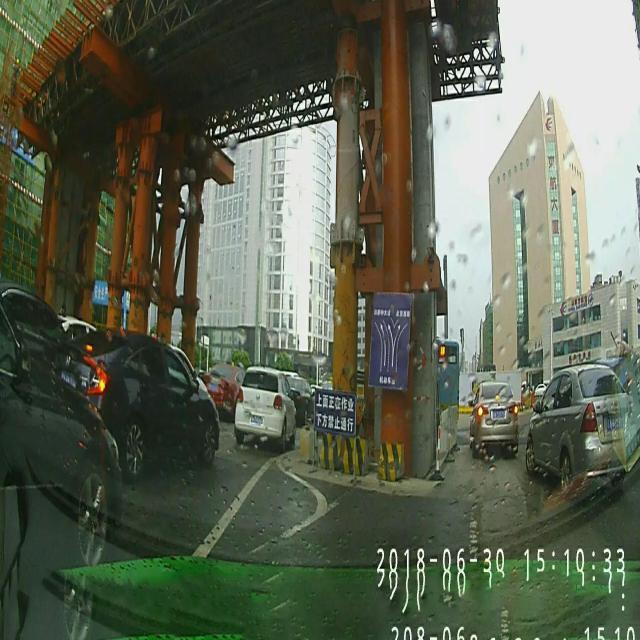car: (0, 304, 123, 576), (54, 326, 220, 470), (525, 362, 629, 494), (231, 366, 296, 446), (470, 382, 518, 458)
